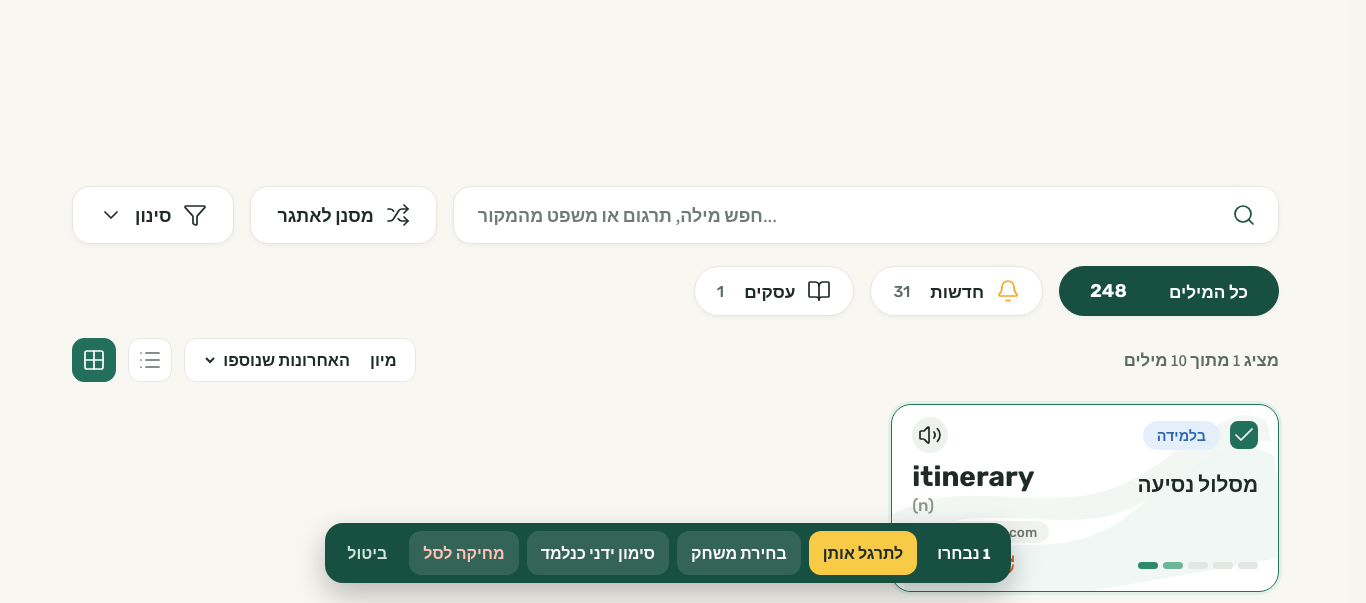
Test: DEV my words › preserves a returned selection and resets pagination for a changed search
(page scrolled)
expect the element "בלמידה מסלול נסיעה itinerary (n) lonelyplanet.com חזרה היום" is shown: met, box top-left (891, 404), bottom-right (1279, 592)
expect the element named "פעולות על מילים שנבחרו" is shown: met, box top-left (325, 523), bottom-right (1011, 583)
Type "revenue" into the search field.
click(847, 215); type("revenue")  # box top-left (476, 202), bottom-right (1218, 228)
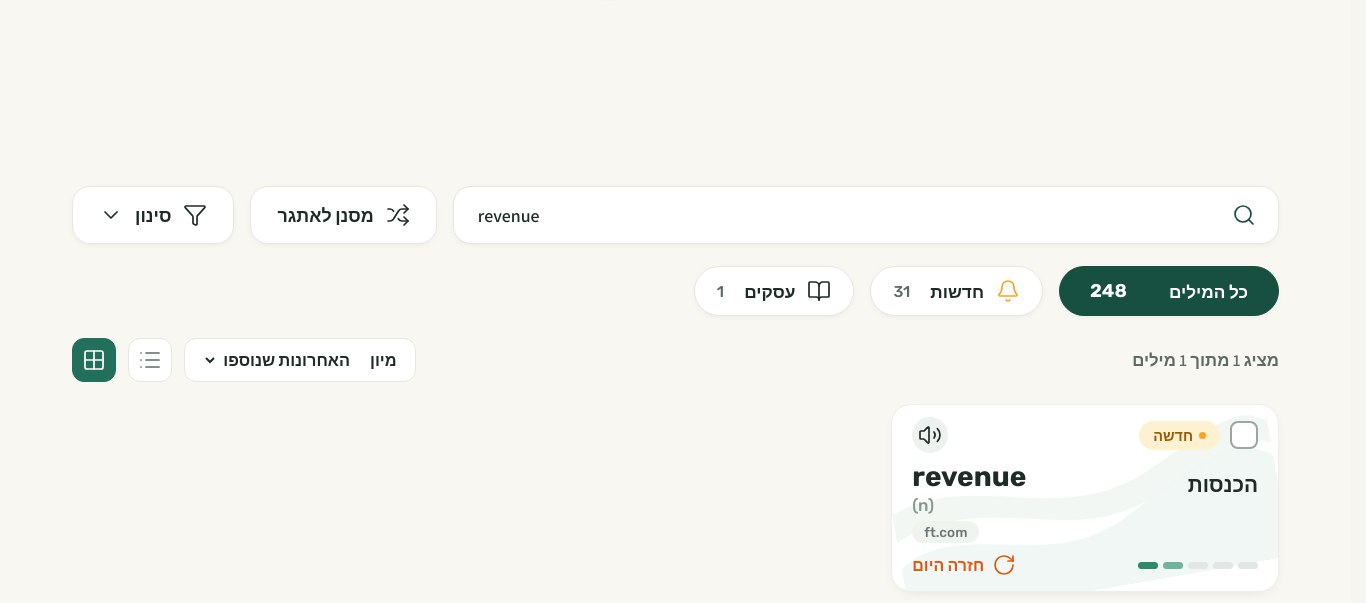
expect the element "חדשה הכנסות revenue (n) ft.com חזרה היום" is shown: met, box top-left (891, 404), bottom-right (1279, 592)
